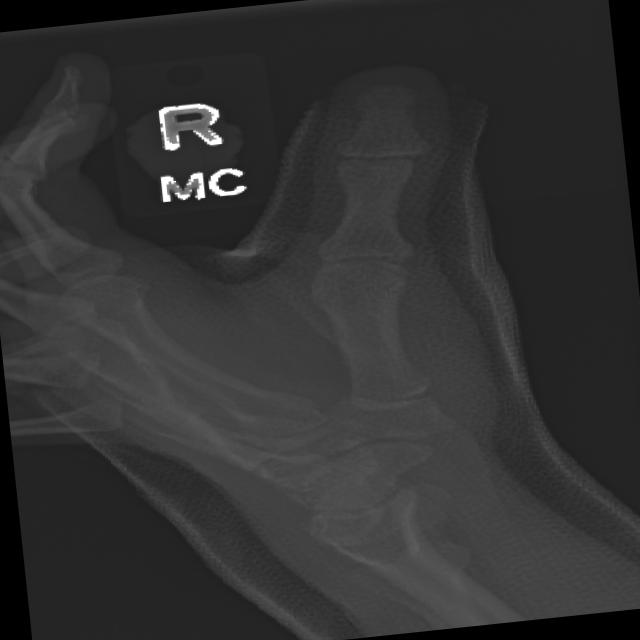fingers positive: (288, 216, 451, 338)
